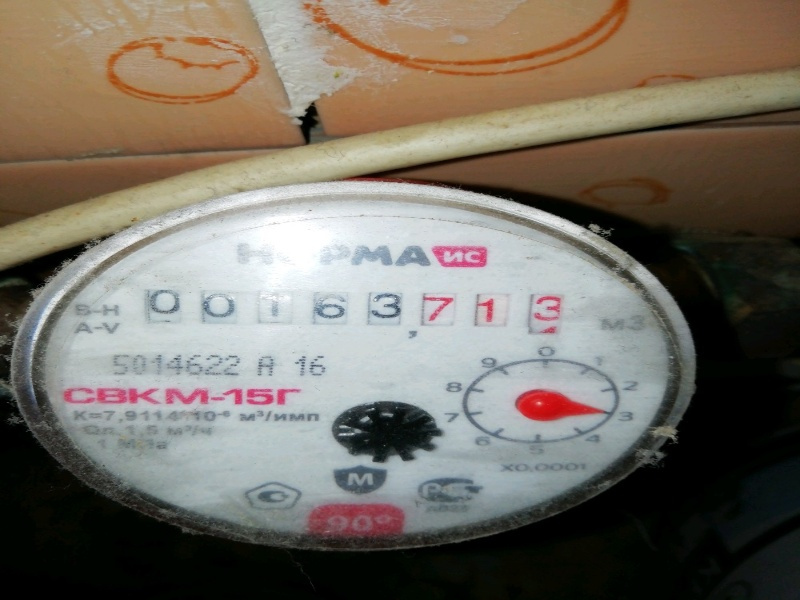meter: (121, 266, 585, 350)
